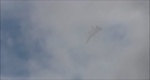maybay_muctieu: (83, 25, 101, 43)
